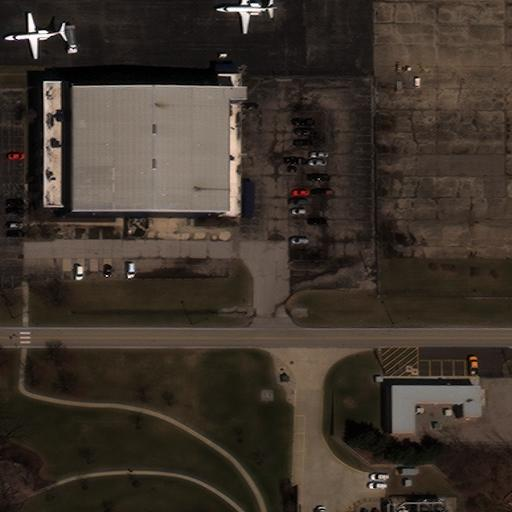Medium Civil Transport: (4, 13, 66, 59), (215, 0, 277, 33)
